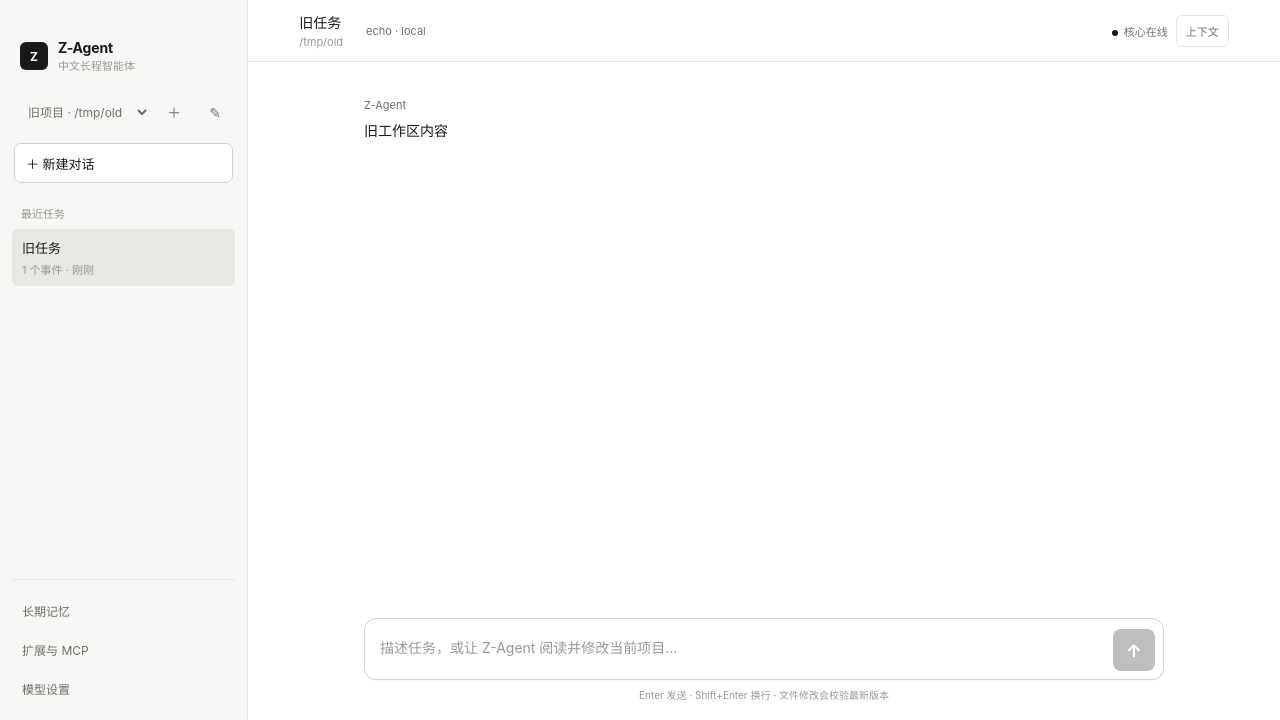
Test case: Z-Agent desktop UI › opens a clean landing page after creating a workspace from an active conversation
Check: the text "旧工作区内容" is shown, box x1=364 y1=122 x2=448 y2=139
Step 1. Click the button named "新建工作区" → (174, 112), box x1=156 y1=93 x2=192 y2=131
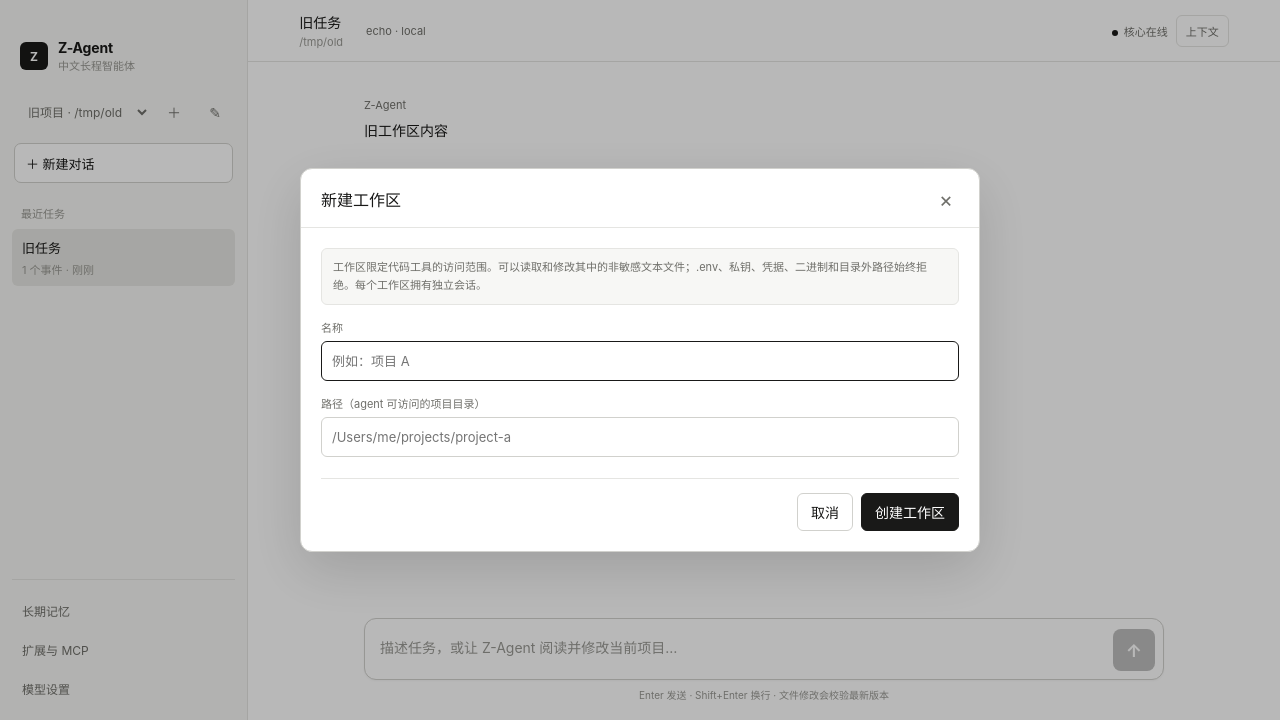
Step 2. Type "新项目" into the field labelled "名称" → (640, 361), box x1=321 y1=341 x2=959 y2=381
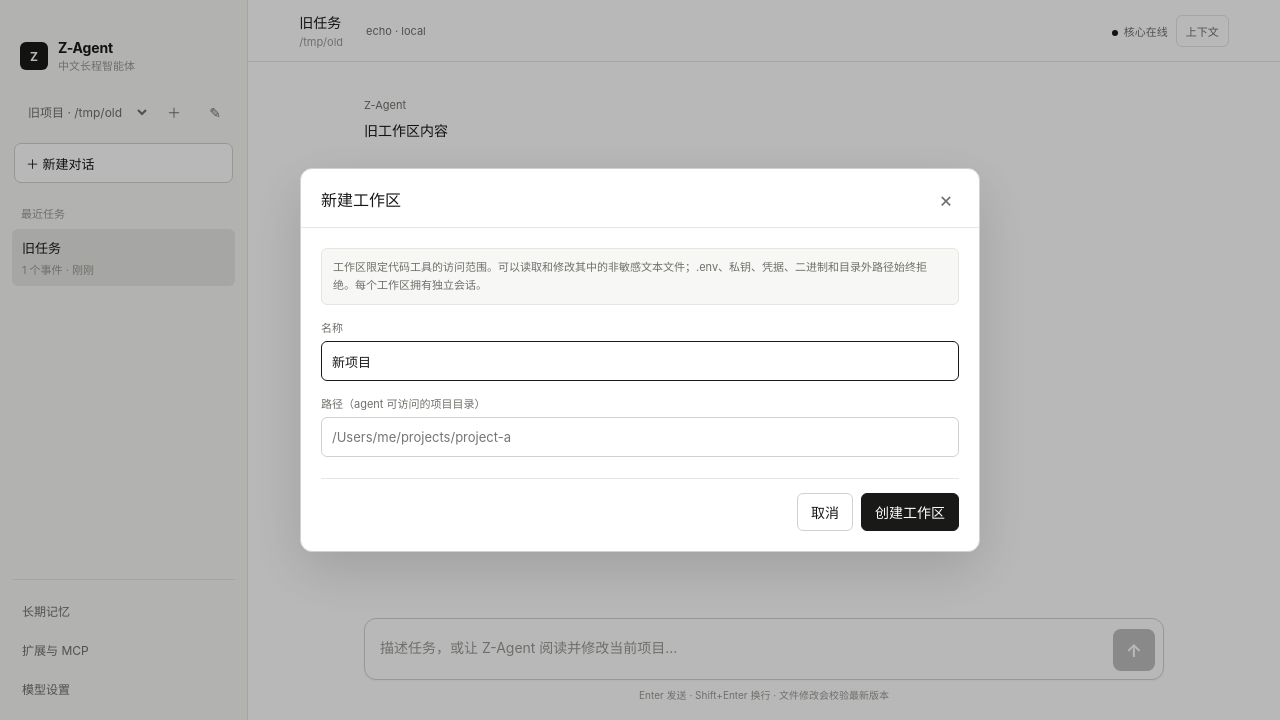
Step 3. Type "/tmp/new" into the field labelled "路径（agent 可访问的项目目录）" → (640, 437), box x1=321 y1=417 x2=959 y2=457
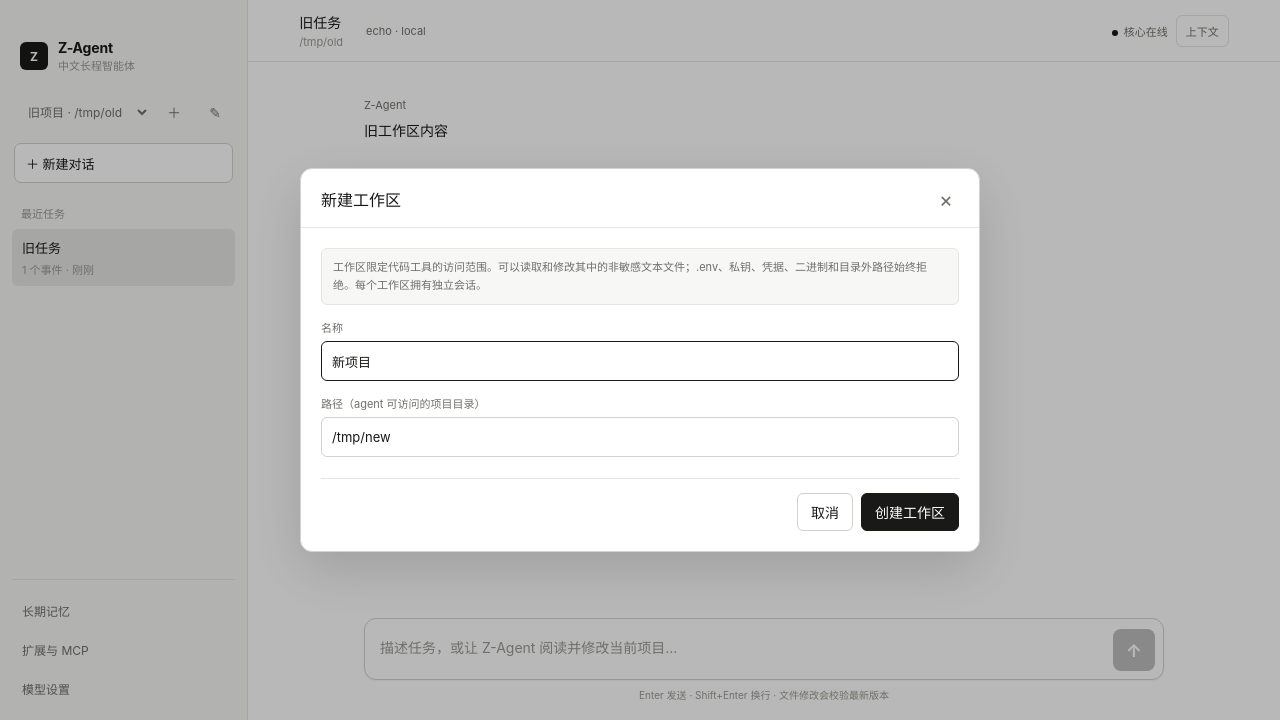
Step 4. Click the button "创建工作区" → (910, 512), box x1=861 y1=493 x2=959 y2=531
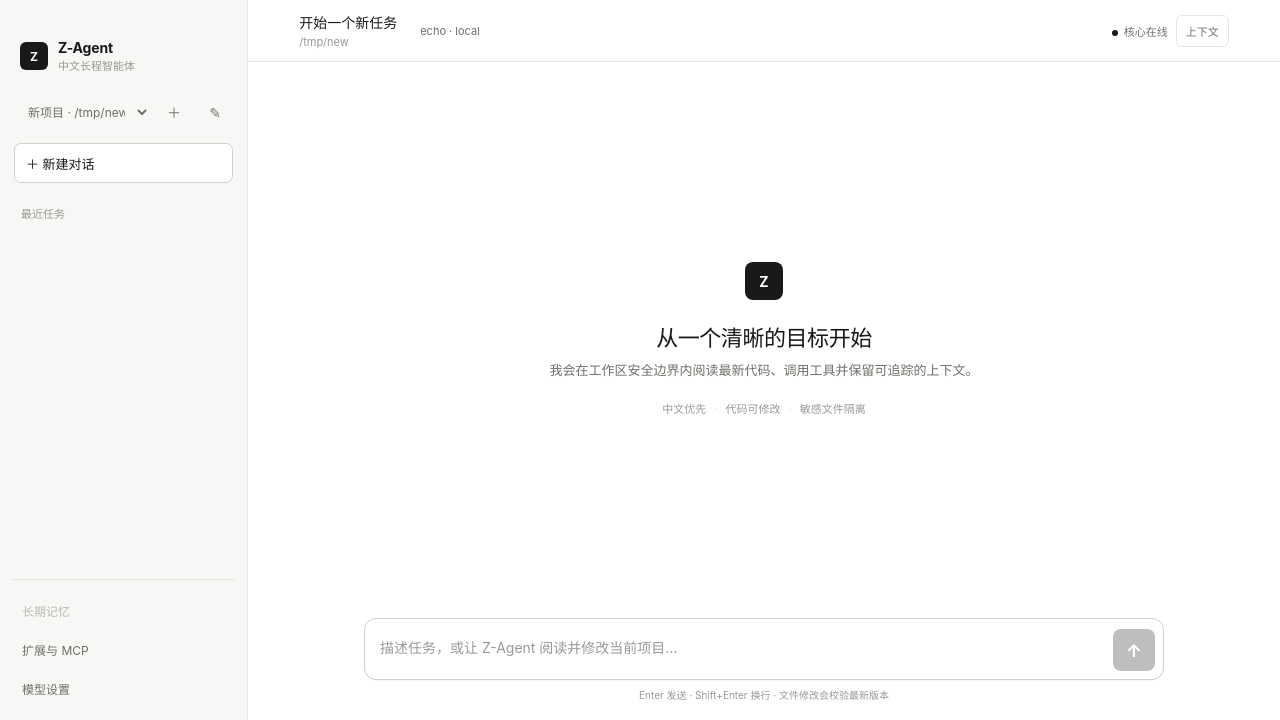
Check: the dropdown named "切换工作区" shows "新项目 · /tmp/new", box x1=14 y1=93 x2=151 y2=131
Check: the text "旧工作区内容" is not shown
Check: the heading "从一个清晰的目标开始" is shown, box x1=656 y1=320 x2=872 y2=352
